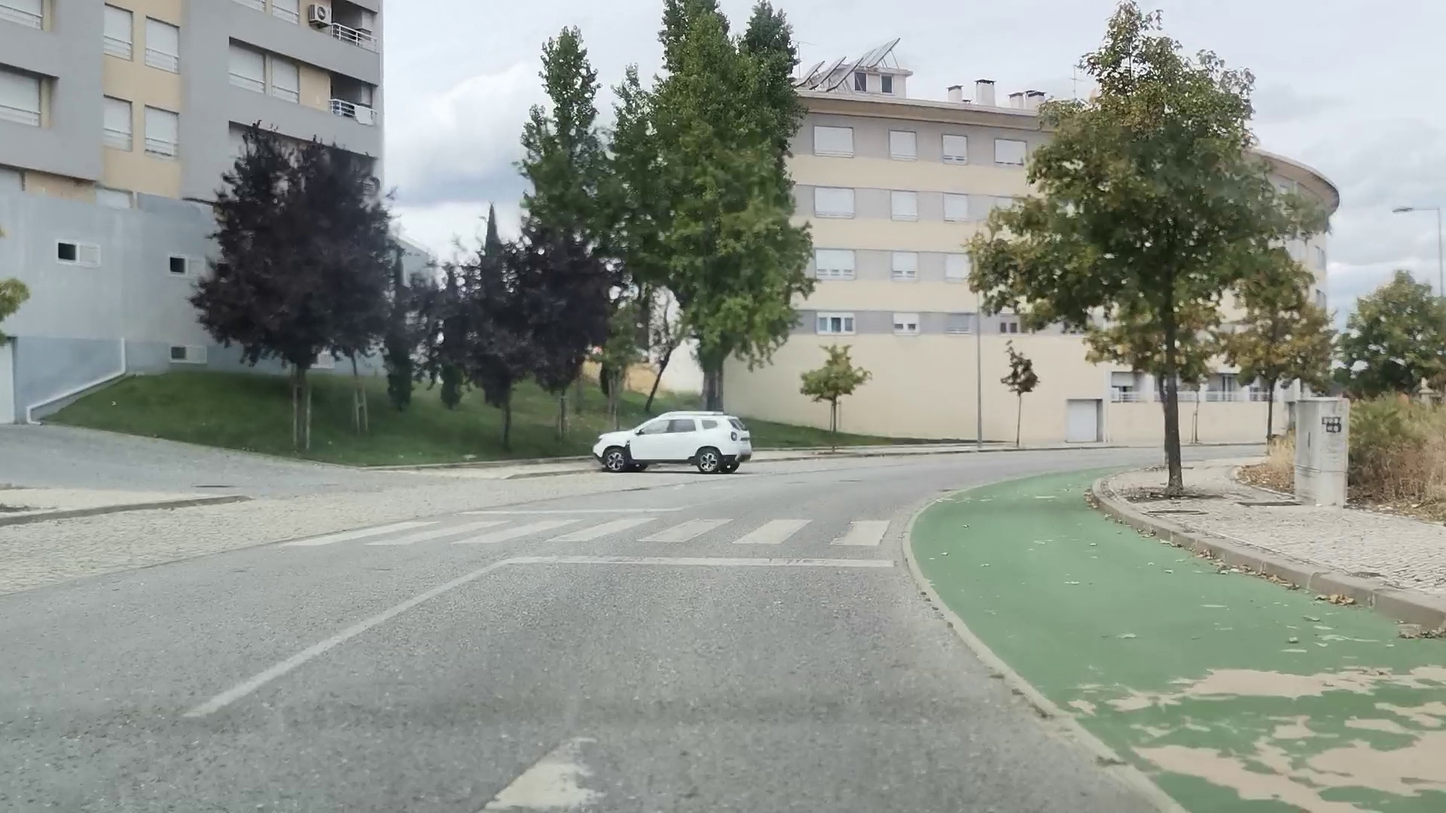Stairs: (291, 507, 894, 553)
